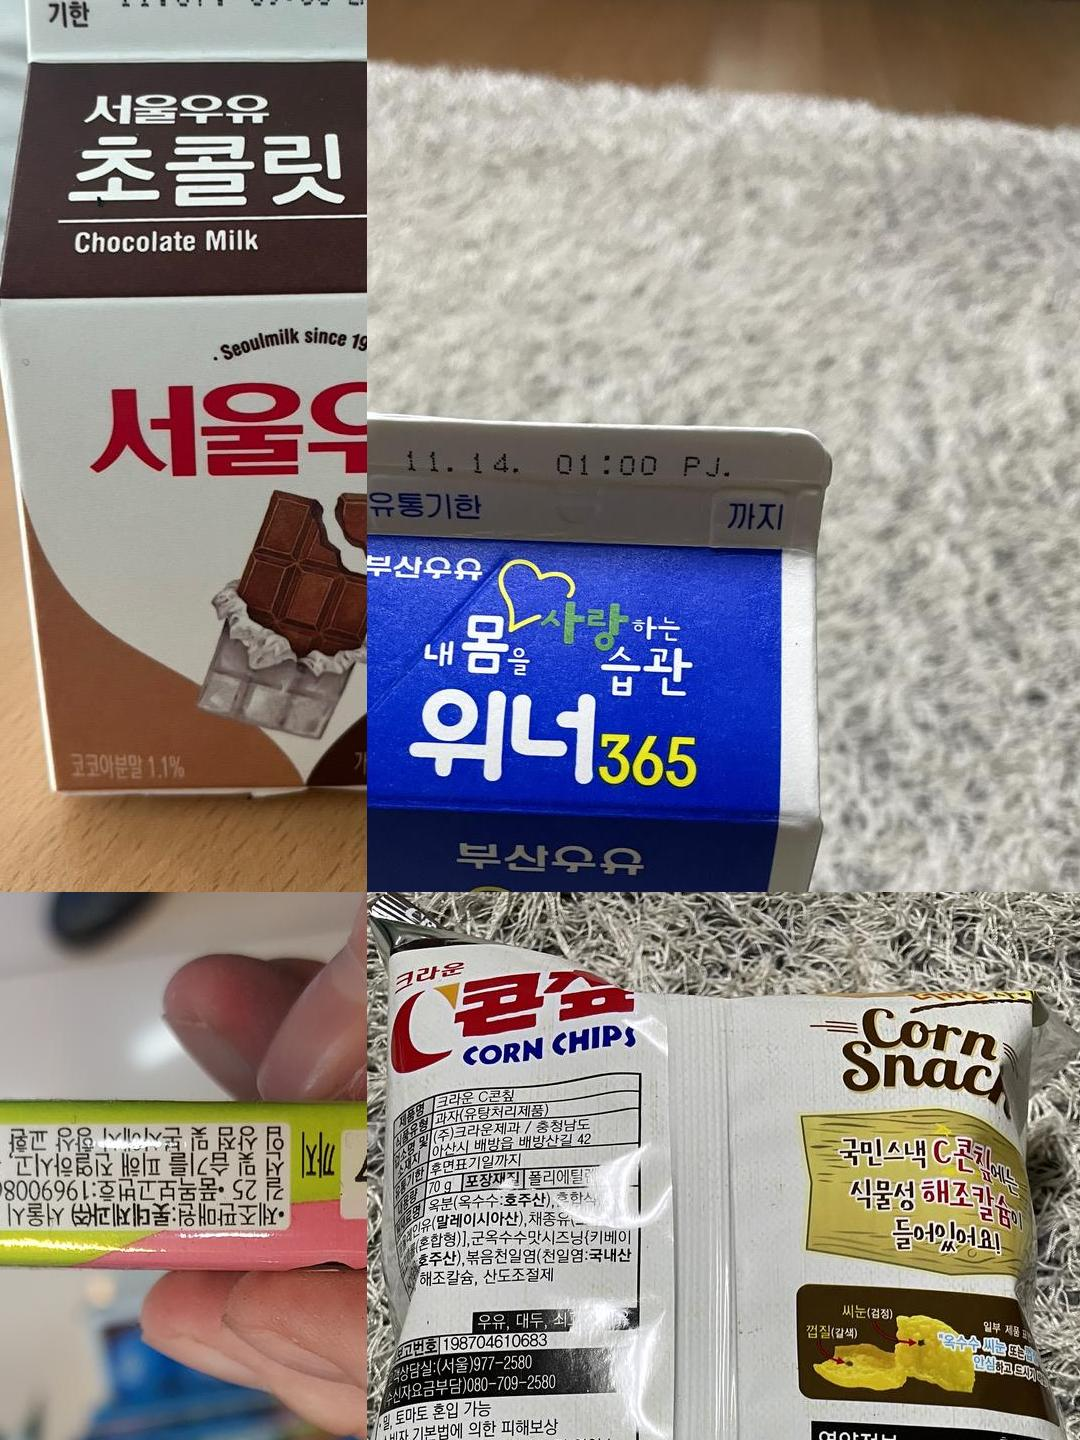milk: (368, 410, 822, 562), (19, 0, 368, 66)
